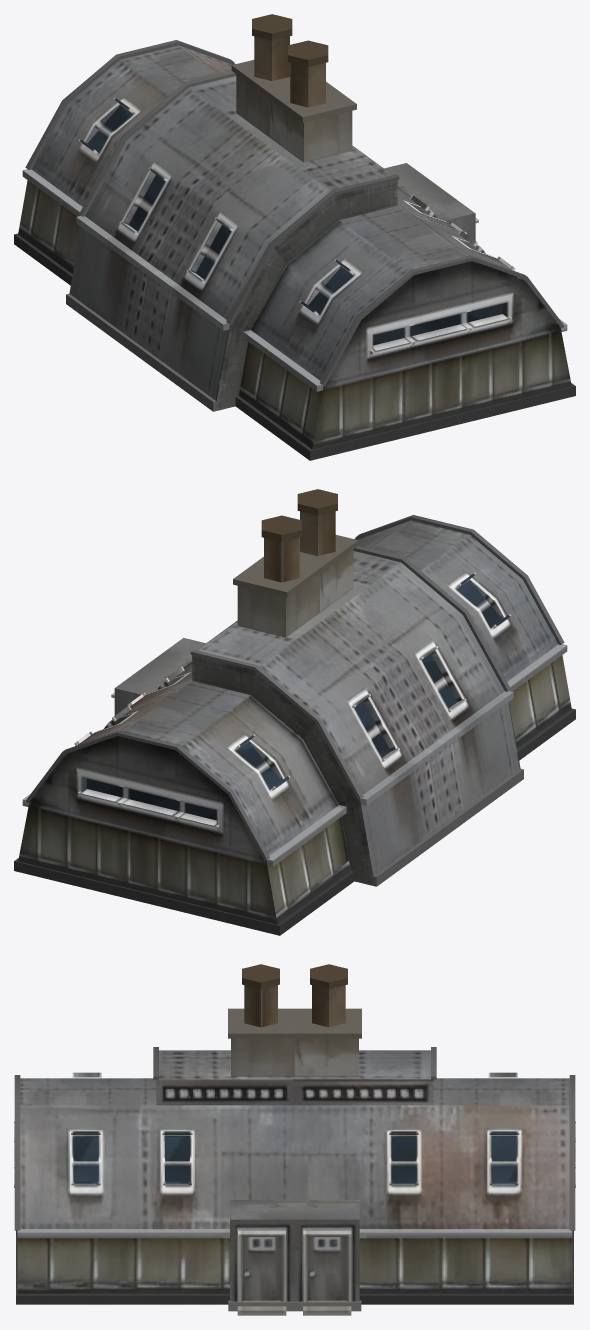
Rendered from singlecivlivingb_cad.glb.
The picture shows the model from 3 angles, top to bottom: view 1: azimuth 30°, elevation 25°; view 2: azimuth 150°, elevation 25°; view 3: azimuth 270°, elevation 25°; orthographic projection. The views are drawn at different scales.
Visible parts, largest first — view 1: Cylinder04; view 2: Cylinder04; view 3: Cylinder04.
Boxes of the visible parts, x1=… form: Cylinder04: x1=14, y1=14, x2=575, y2=460; Cylinder04: x1=14, y1=489, x2=575, y2=935; Cylinder04: x1=14, y1=964, x2=575, y2=1315.
Size of the model in its own units: 8.41 by 7.31 by 13.9.
1 material, 1 textured.
